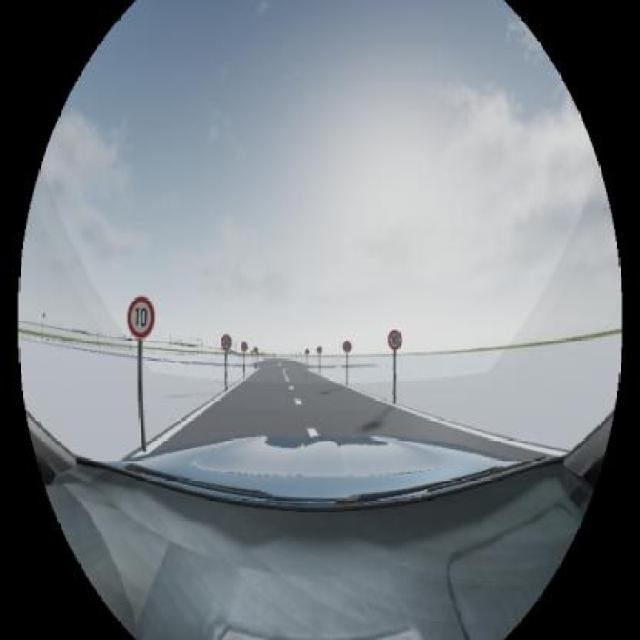forb_speed_over_10: (128, 297, 155, 338), (388, 330, 402, 348)
